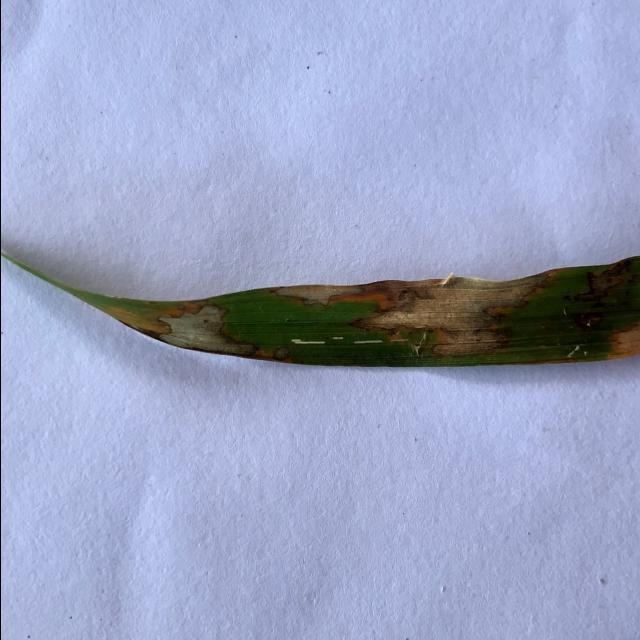Leaf Blight: (268, 264, 562, 370), (130, 306, 284, 369), (580, 309, 640, 363)
